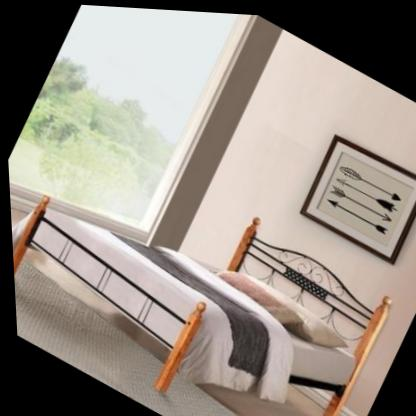Bed: (4, 108, 405, 416)
Carpet: (10, 254, 239, 416)
Frame: (285, 116, 416, 268)
